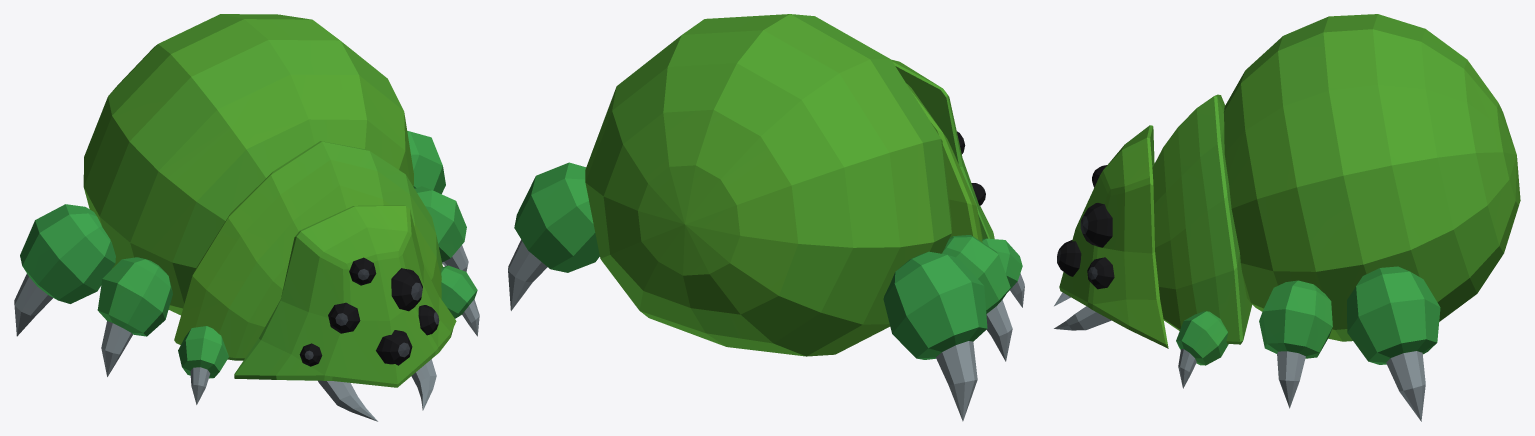
File: SpiderMesh.fbx
3 renders of one model, left to right at view 1: azimuth 30°, elevation 25°; view 2: azimuth 150°, elevation 25°; view 3: azimuth 270°, elevation 25°, orthographic. The views are drawn at different scales.
Visible parts, largest first — view 1: Spider; view 2: Spider; view 3: Spider.
Boxes of the visible parts, bbox=[...] form: Spider: bbox=[14, 14, 479, 421]; Spider: bbox=[508, 14, 1024, 421]; Spider: bbox=[1054, 14, 1520, 421].
Bounding box in the file's own units: 1.62 × 1.05 × 1.53.
1 material, 1 textured.
